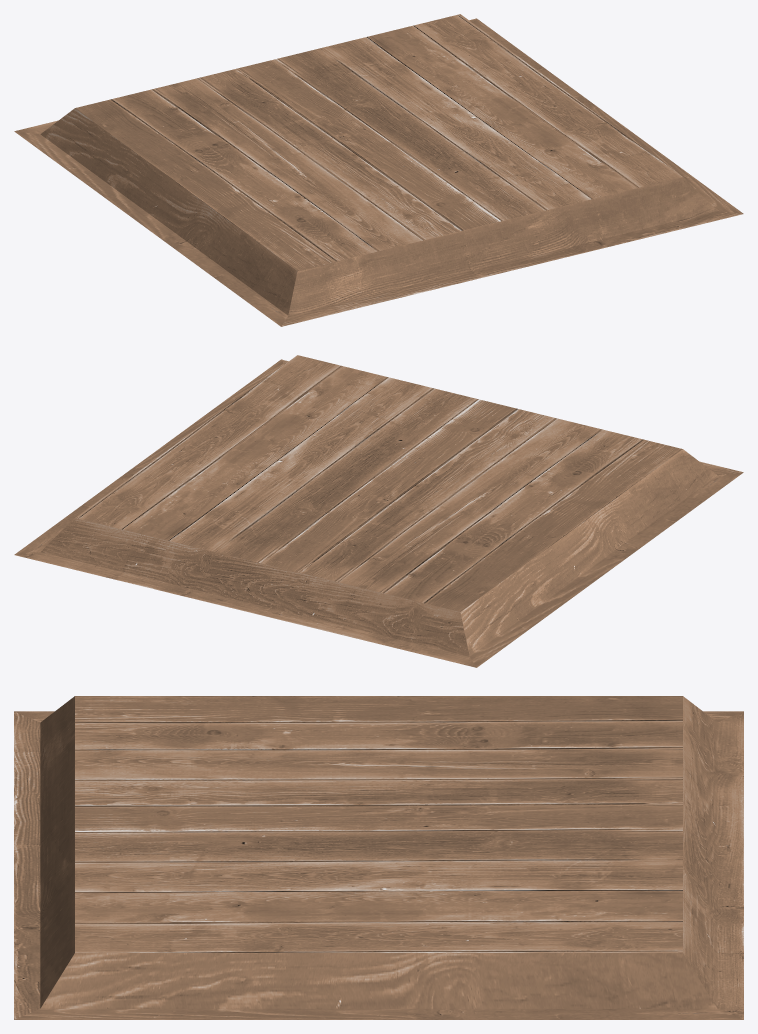
File: Ceiling4B.fbx
3 renders of one model, top to bottom at view 1: azimuth 30°, elevation 25°; view 2: azimuth 150°, elevation 25°; view 3: azimuth 270°, elevation 25°, orthographic. The views are drawn at different scales.
Parts seen in each view (by area): view 1: Ceiling4B; view 2: Ceiling4B; view 3: Ceiling4B.
Boxes of the visible parts, left/top/right/bottom form: Ceiling4B: left=14, top=14, right=743, bottom=326; Ceiling4B: left=14, top=355, right=743, bottom=667; Ceiling4B: left=14, top=696, right=743, bottom=1019.
Bounding box in the file's own units: 200 × 12.44 × 200.
